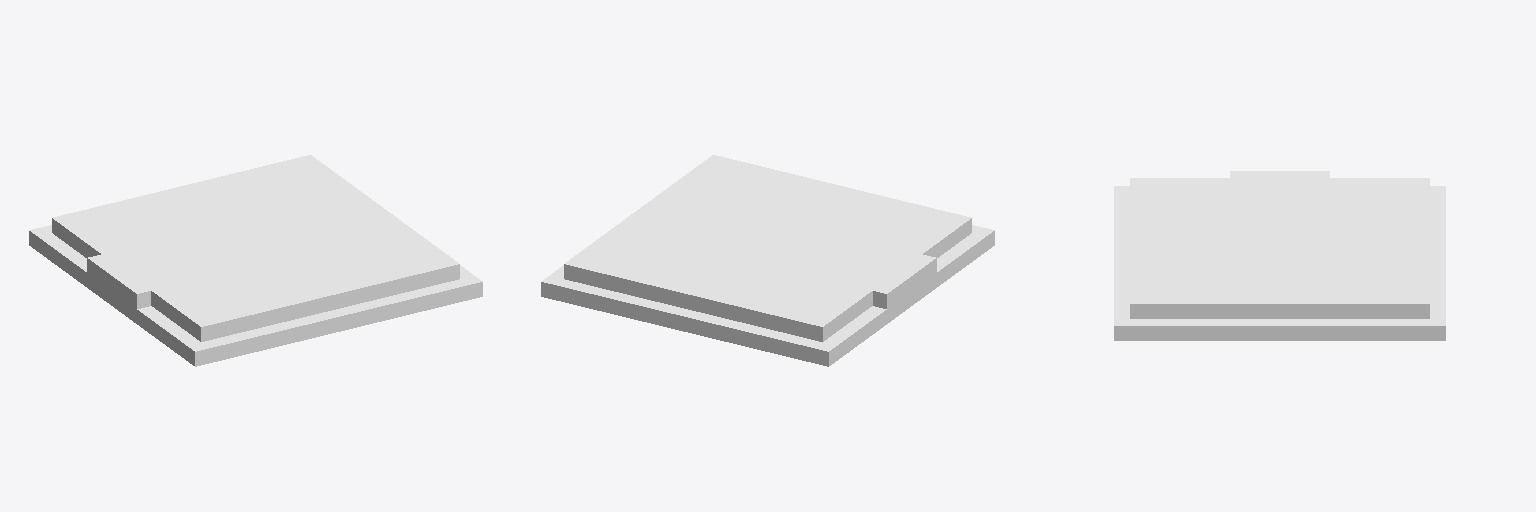
Rendered from oneway.obj.
3 views of the same model, side by side, from view 1: azimuth 30°, elevation 25°; view 2: azimuth 150°, elevation 25°; view 3: azimuth 270°, elevation 25° (orthographic).
Bounding box in the file's own units: 20 × 2 × 20.